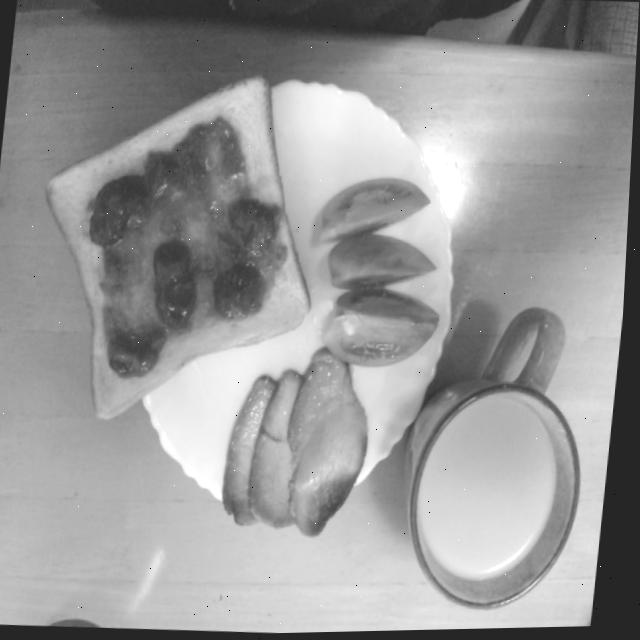面包点心: (135, 49, 463, 444)
